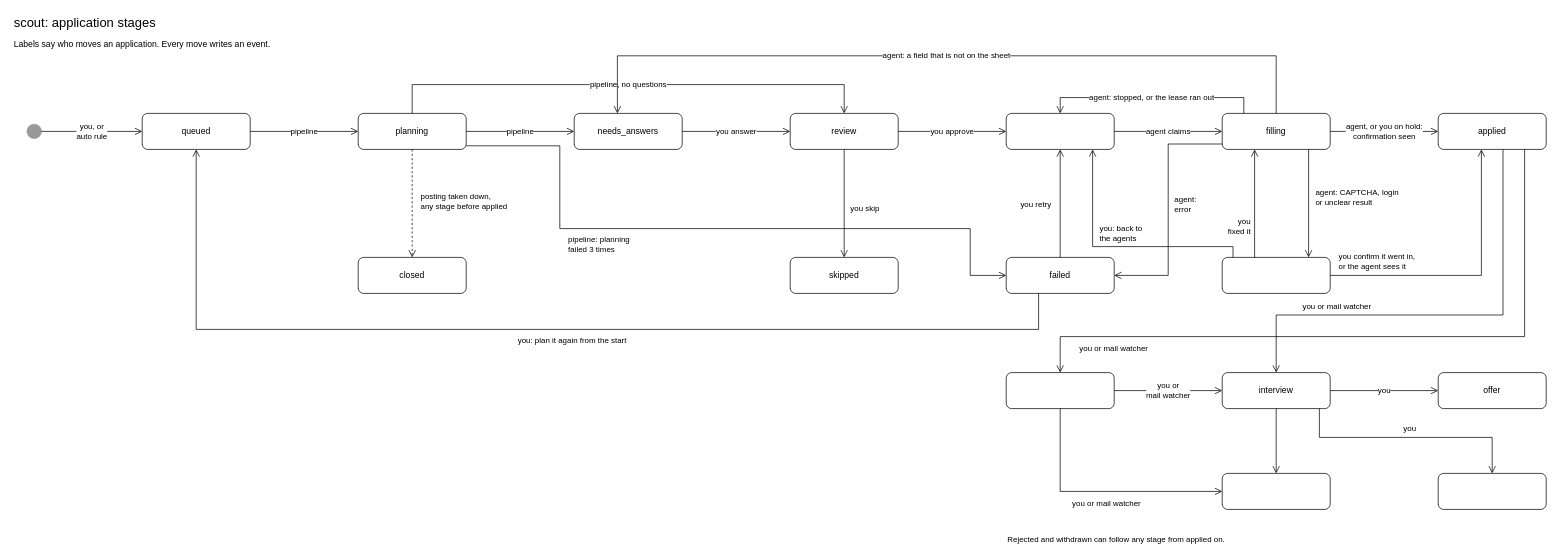
This 1559x560 diagram has some shape labels left out. Here are the shapes that lost their labels. From the top down, the box of each, then its label:
(1005, 113, 1114, 149): approved
(1221, 257, 1330, 293): needs_hand
(1005, 372, 1114, 409): assessment
(1221, 473, 1330, 509): rejected
(1437, 473, 1546, 509): withdrawn
